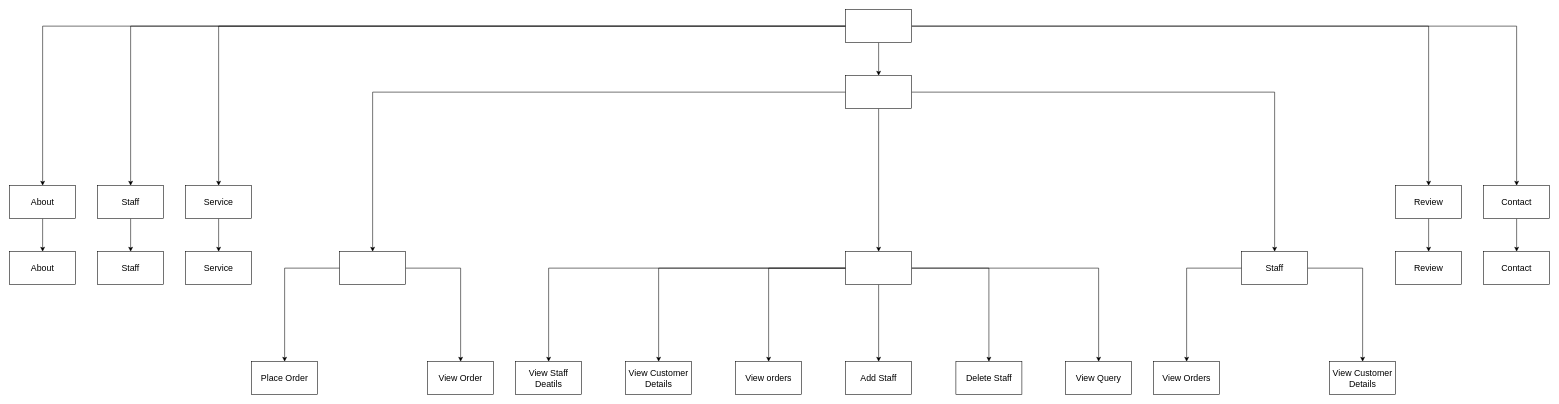
Image size: 1559x404. Some labels were removed from this diagram. The shapes that lost their labels are listed below. From the top down, each one's centre as x and y in pixels, then its label:
At pixel 878 26: "Home".
At pixel 878 92: "Orders".
At pixel 372 268: "Customer".
At pixel 878 268: "Admin".
